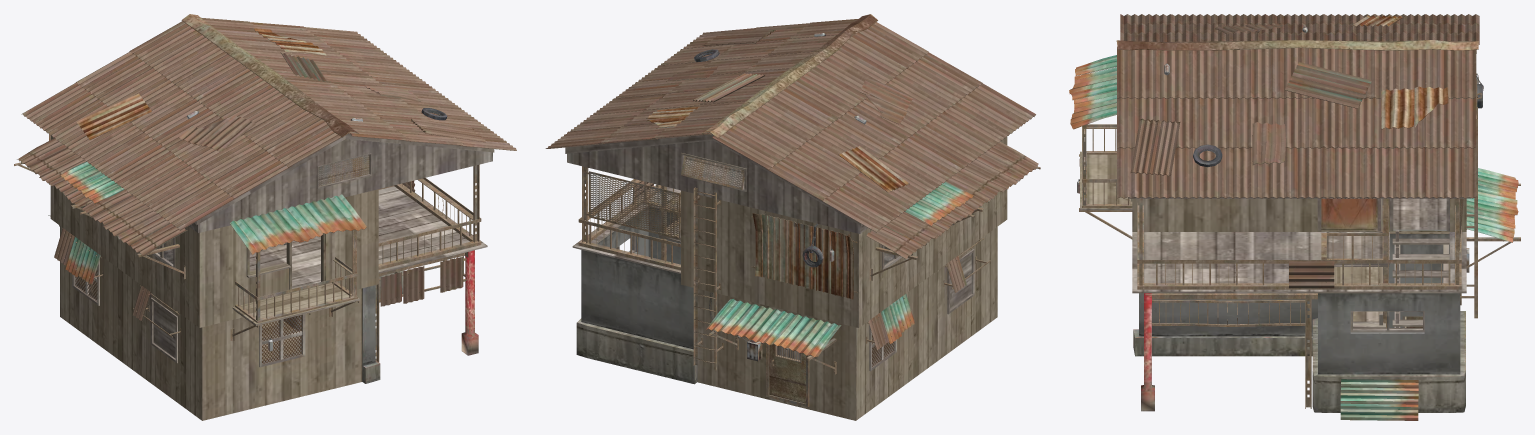
The model's file is house_d.glb.
3 renders of one model, left to right at view 1: azimuth 30°, elevation 25°; view 2: azimuth 150°, elevation 25°; view 3: azimuth 270°, elevation 25°, orthographic. The views are drawn at different scales.
Visible parts, largest first — view 1: prefab; view 2: prefab; view 3: prefab.
Boxes of the visible parts, box(x1,y1,x2,y2) form: prefab: box(14, 14, 516, 420); prefab: box(545, 14, 1040, 420); prefab: box(1069, 14, 1520, 420).
Bounding box in the file's own units: 11.63 × 8.2 × 11.32.
Materials: 6 (6 with a texture image).
